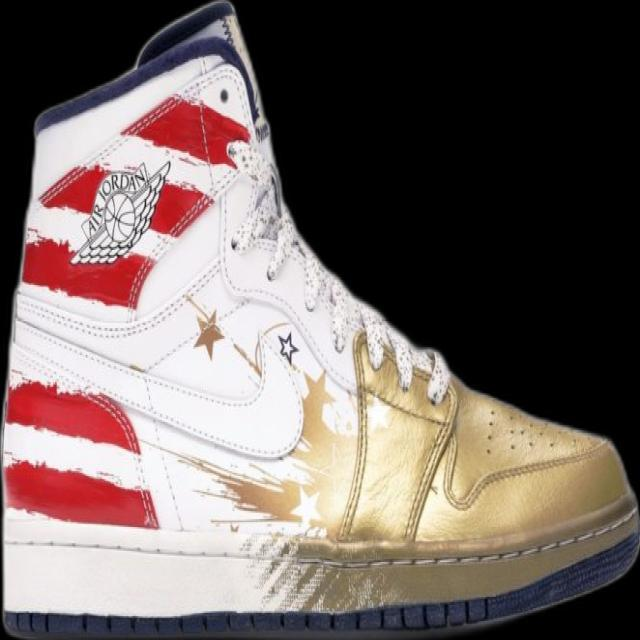J1_InsoleChar: (0, 0, 639, 639)
J1_ShoeLogo: (67, 158, 171, 265), (184, 293, 225, 360)
J1_StitchPattern: (2, 321, 637, 633), (222, 136, 452, 406), (336, 326, 608, 542), (238, 503, 638, 612), (334, 325, 458, 542), (222, 136, 293, 280), (237, 528, 330, 612)
